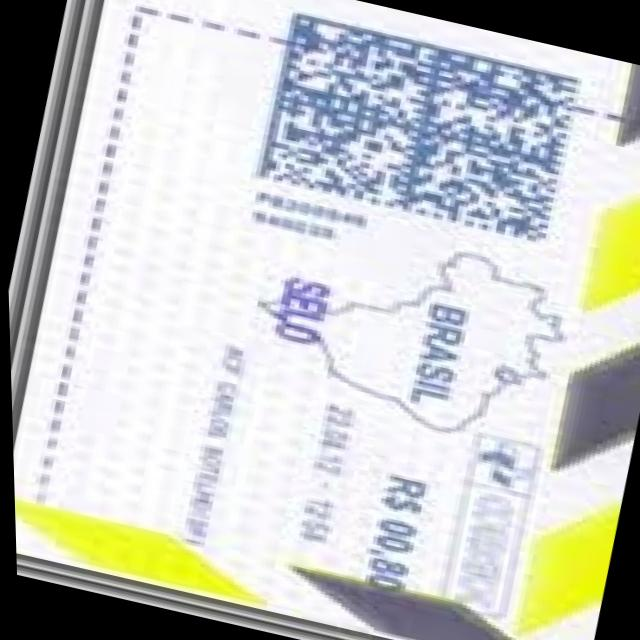datamatrix: (234, 1, 605, 254)
